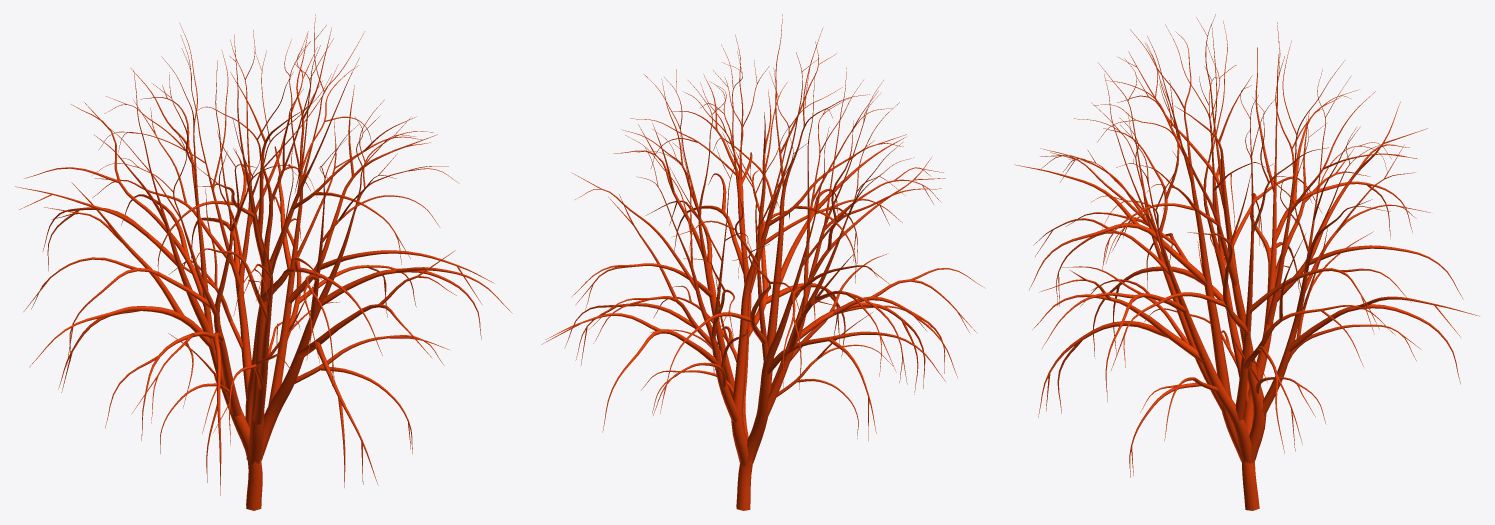
The model's file is tree.fbx.
3 views of the same model, side by side, from view 1: azimuth 30°, elevation 25°; view 2: azimuth 150°, elevation 25°; view 3: azimuth 270°, elevation 25° (orthographic). The views are drawn at different scales.
Parts seen in each view (by area): view 1: tree; view 2: tree; view 3: tree.
Part boxes in pixels (x1,y1,x2,y2): tree: (15, 14, 512, 510); tree: (541, 14, 985, 510); tree: (1014, 14, 1479, 510).
Bounding box in the file's own units: 597 × 707 × 623.
